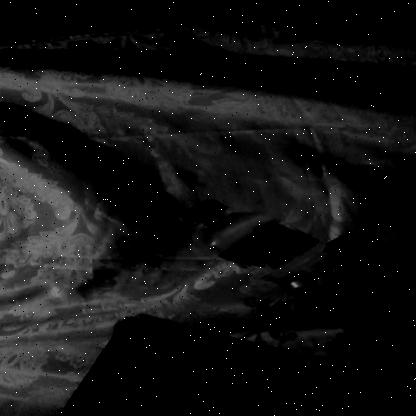Plastic Bottle: (181, 192, 415, 310)
